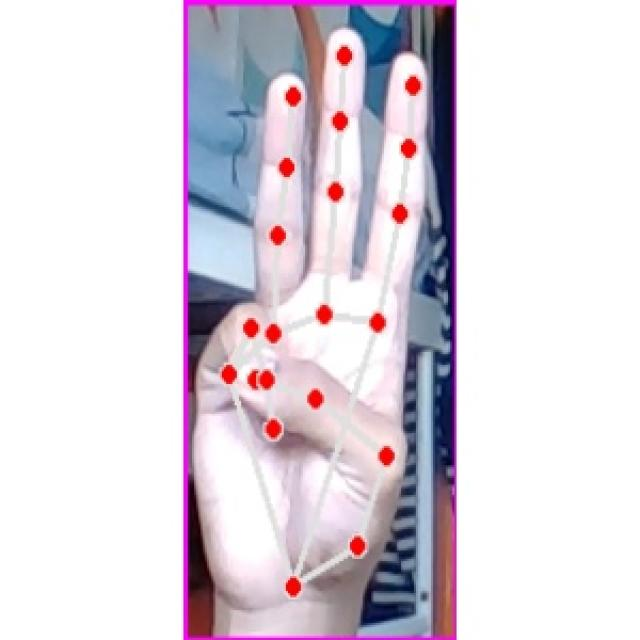W: (198, 23, 426, 606)
